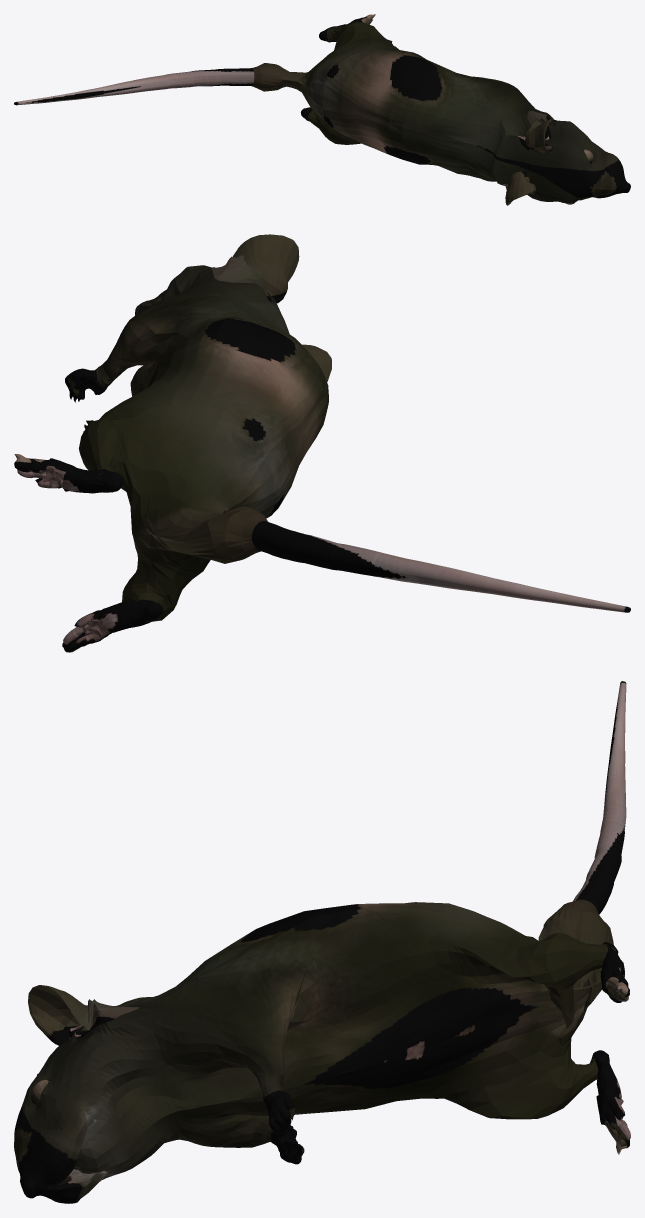
File: mouse_frame0_textured.obj
The picture shows the model from 3 angles, top to bottom: view 1: azimuth 30°, elevation 25°; view 2: azimuth 150°, elevation 25°; view 3: azimuth 270°, elevation 25°; orthographic projection. The views are drawn at different scales.
Size of the model in its own units: 117 by 33.19 by 79.14.
1 material, 1 textured.
